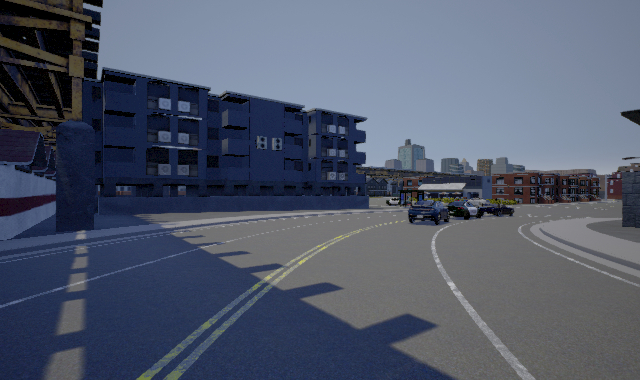vehicle: (408, 198, 453, 225), (446, 197, 487, 219), (486, 201, 516, 218)
